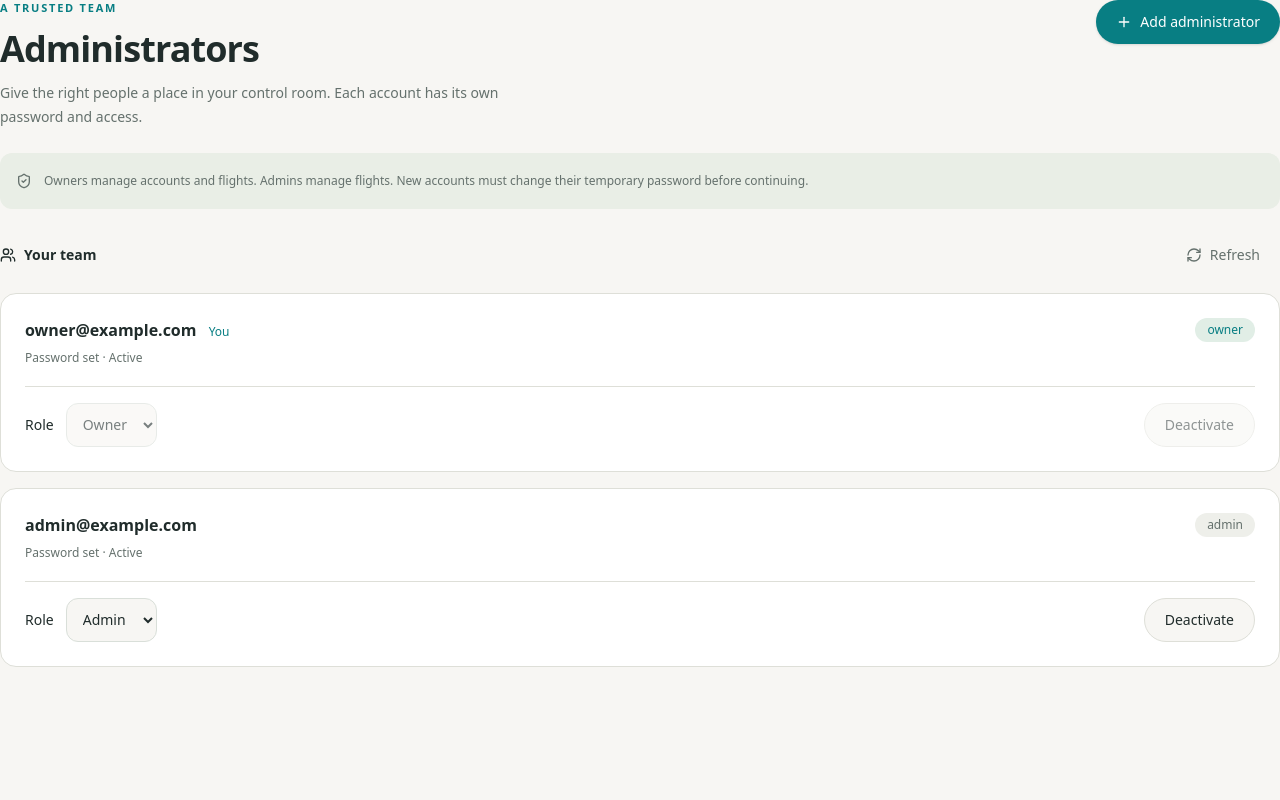
Test case: creates accounts with temporary passwords and clears the form after success
Expected: the heading "owner@example.com You" is shown, top-left (25, 318), bottom-right (230, 342)
Click the button "Add administrator". click: (1188, 22)
box: top-left (1096, 0), bottom-right (1279, 44)
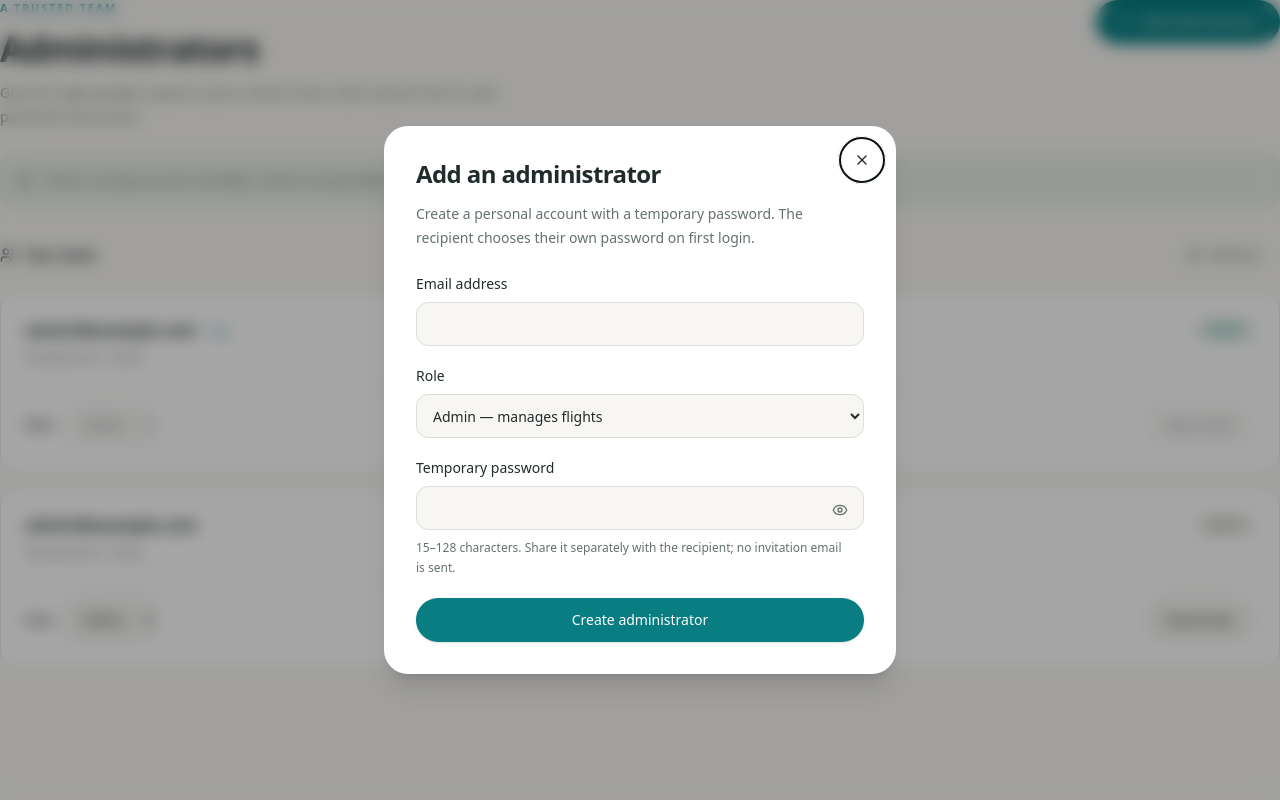
Type "new@example.com" into the field labelled "Email address". click: (640, 324)
box: top-left (416, 302), bottom-right (864, 346)
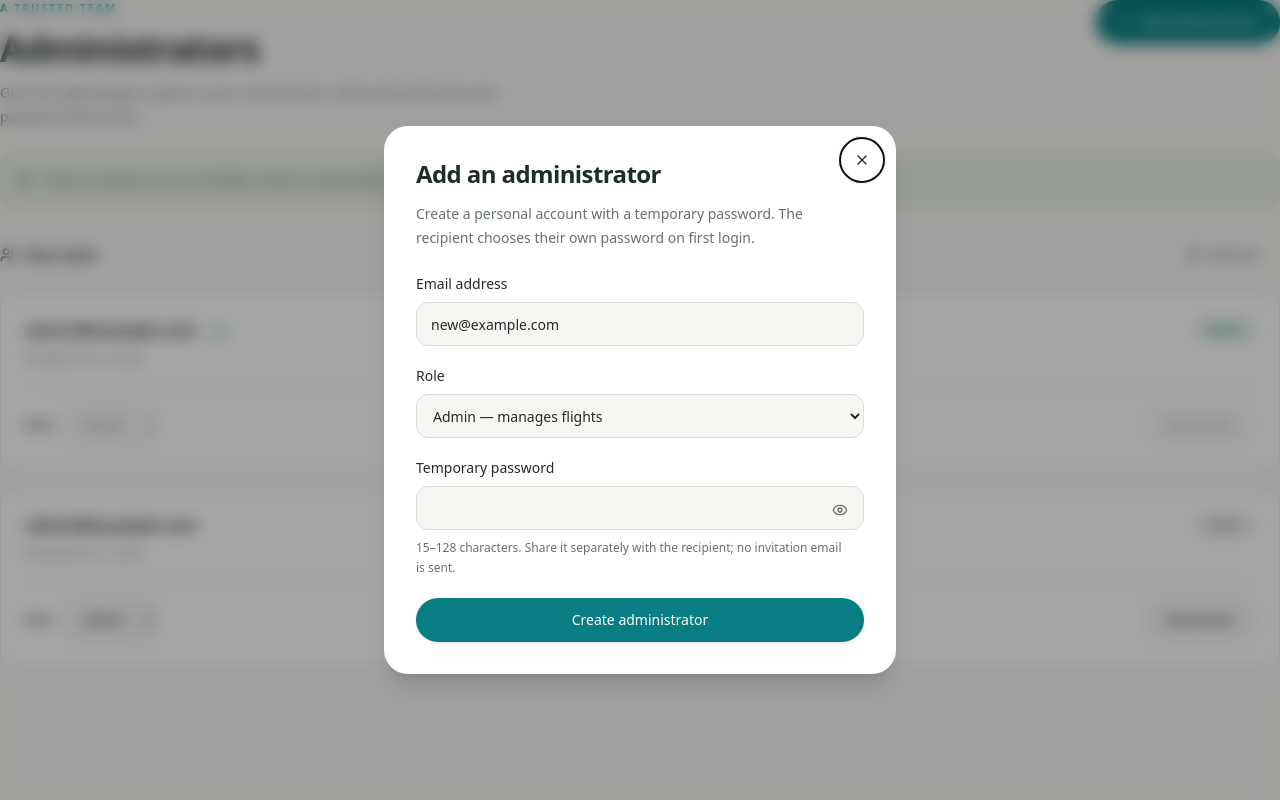
Type "temporary password 123" into the password field labelled "Temporary password". click: (640, 508)
box: top-left (416, 486), bottom-right (864, 530)
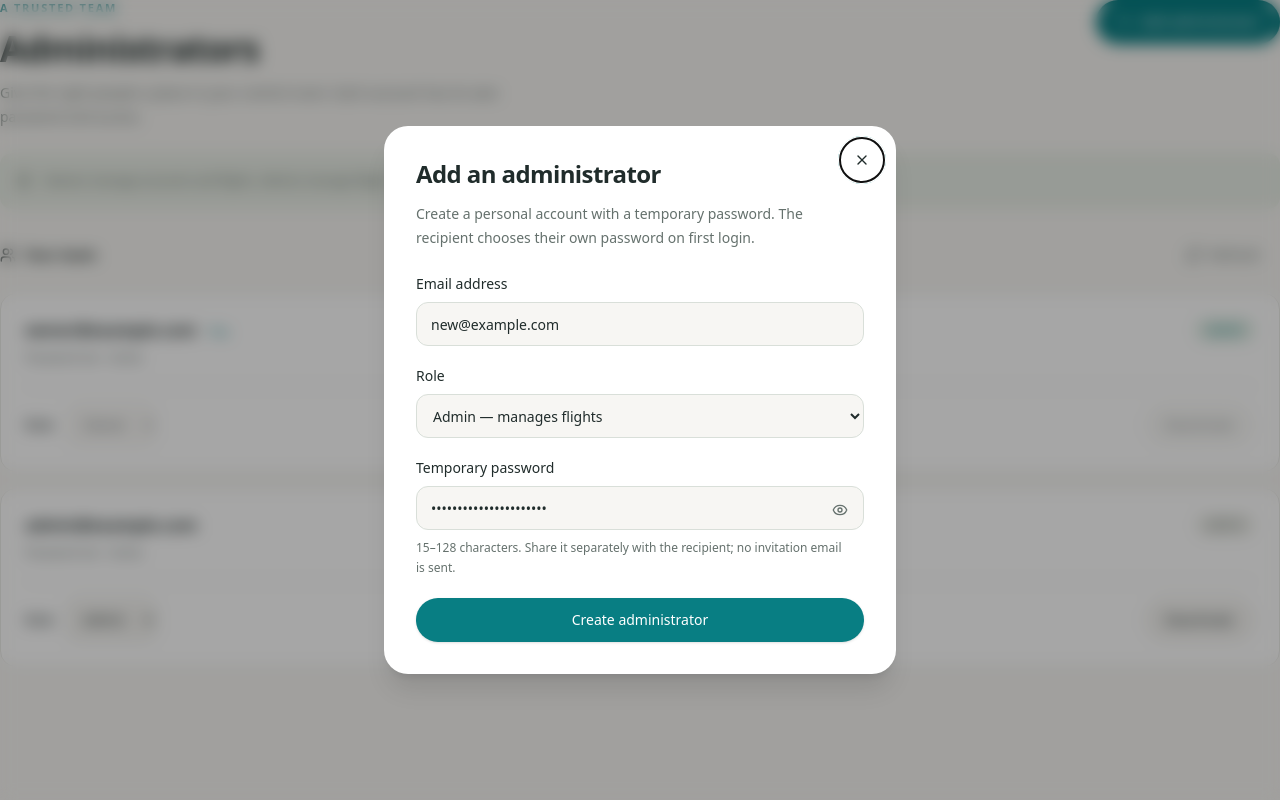
Click the button "Create administrator". click: (640, 620)
box: top-left (416, 598), bottom-right (864, 642)
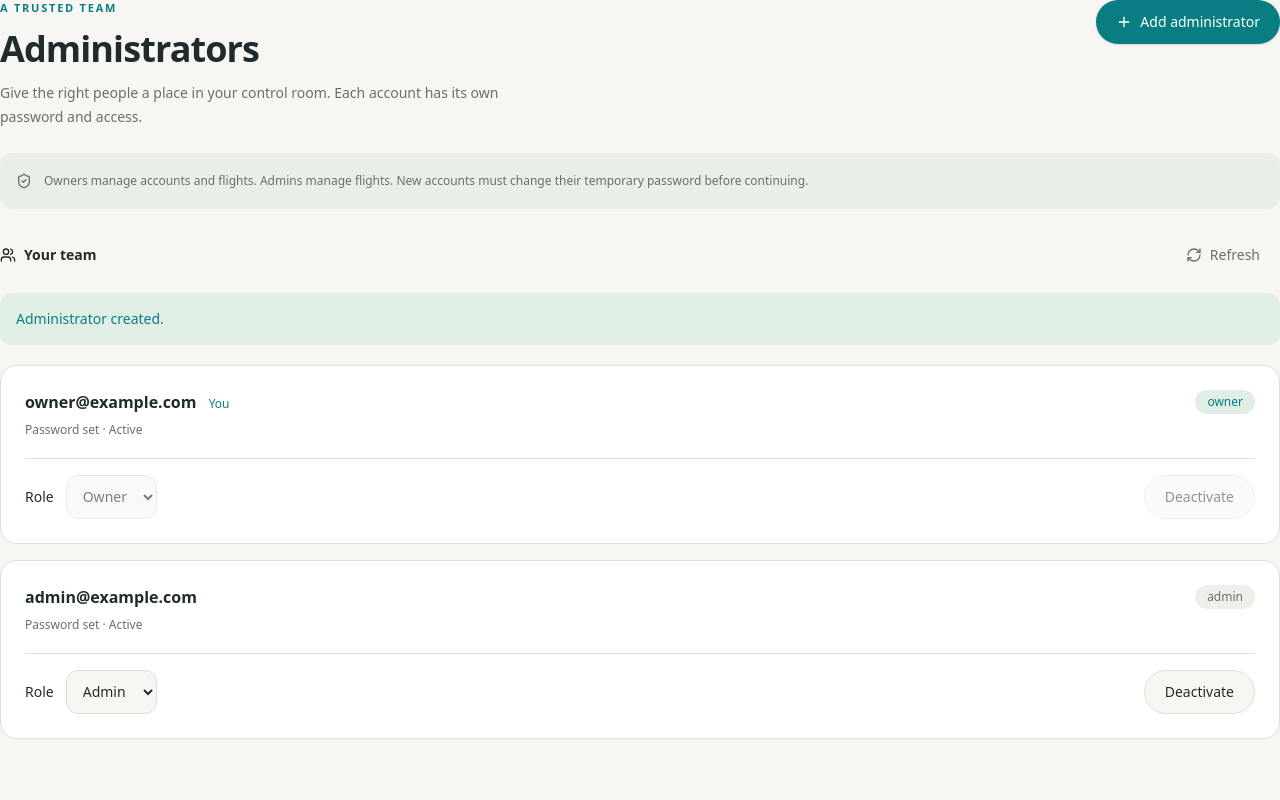
Now the message reads "Administrator created.", box top-left (16, 308), bottom-right (164, 328)
Now the dialog is gone
